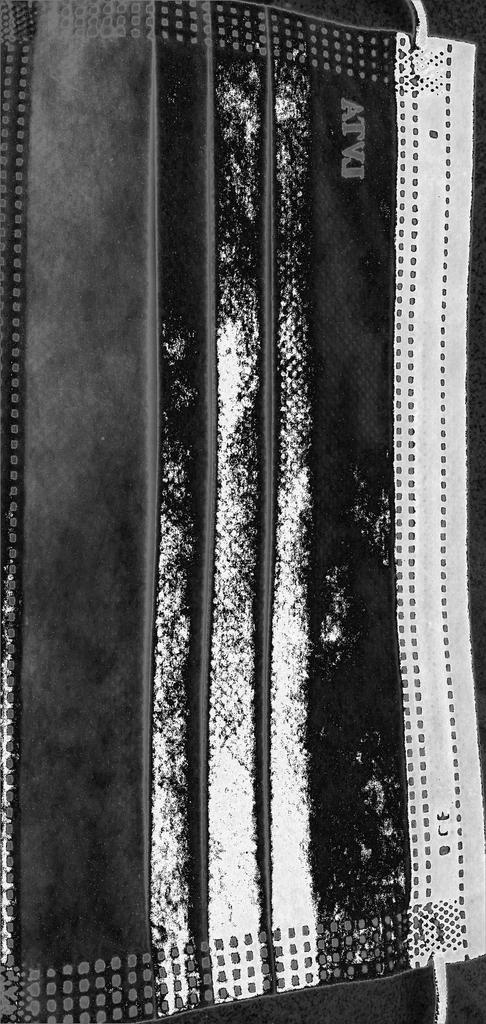High GSM: (30, 42, 408, 954)
